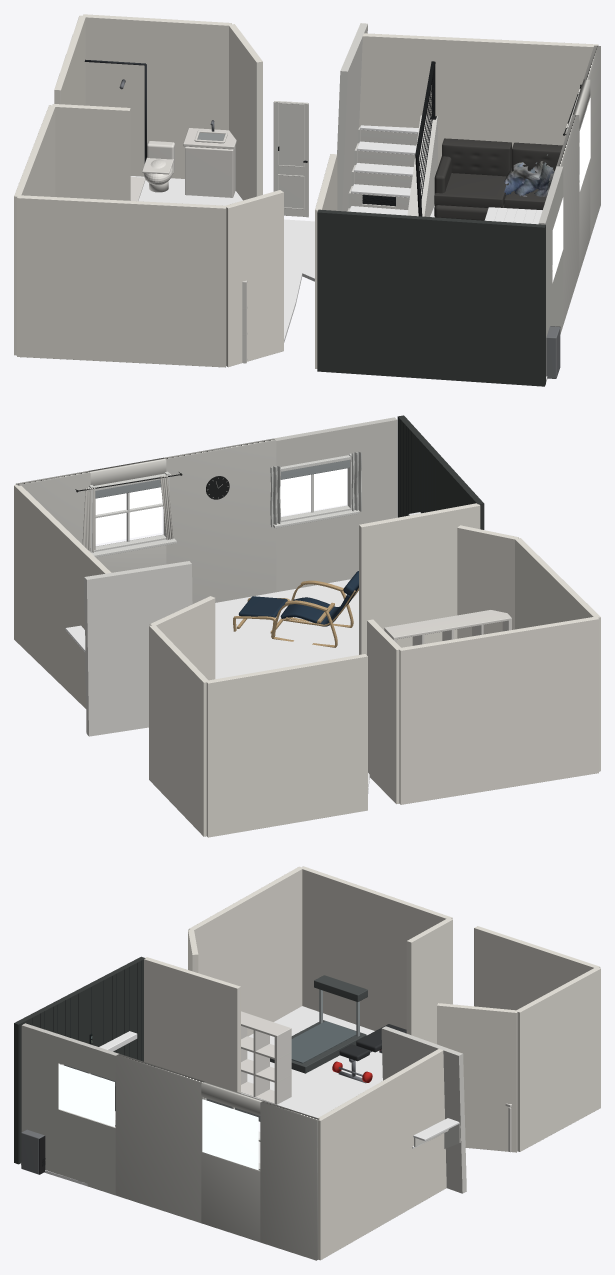
File: model-28d8dd1e8dfe.glb
3 renders of one model, top to bottom at view 1: azimuth 30°, elevation 25°; view 2: azimuth 150°, elevation 25°; view 3: azimuth 270°, elevation 25°, orthographic. The views are drawn at different scales.
Visible parts, largest first — view 1: source-wall-8-replacement, home-lower-level_observed_wall_0_panel, home-lower-level_observed_wall_6_panel, home-lower-level_observed_wall_4_panel, home-lower-level_observed_wall_10_panel, home-lower-level_observed_wall_2_panel, home-lower-level_observed_wall_5_panel, home-lower-level_independently_traced_floor, source white stair-side wall, measured plane, inferred crop , actual-second-window-wall-between-windows, home-lower-level_observed_wall_1_panel, home-lower-level__bath_vanity__cabinet (+30 smaller); view 2: home-lower-level_observed_wall_1_panel, home-lower-level_observed_wall_3_panel, actual-second-window-wall-between-windows, source white stair-side wall, measured plane, inferred crop , home-lower-level_observed_wall_9_panel, home-lower-level_observed_wall_6_panel, home-lower-level_observed_wall_4_panel, home-lower-level_independently_traced_floor, home-lower-level_observed_wall_10_panel, home-lower-level_observed_wall_2_panel, source-wall-8-replacement, actual-window-cutout-wall-below (+16 smaller); view 3: home-lower-level_observed_wall_6_panel, home-lower-level_observed_wall_1_panel, actual-second-window-wall-between-windows, home-lower-level_observed_wall_4_panel, home-lower-level_observed_wall_0_panel, home-lower-level_observed_wall_9_panel, home-lower-level_observed_wall_5_panel, actual-second-window-wall-rightof-second, source-wall-8-replacement, home-lower-level_observed_wall_3_panel, home-lower-level_independently_traced_floor, home-lower-level_observed_wall_2_panel (+15 smaller).
Part boxes in pixels (x1,y1,x2,y2): source-wall-8-replacement: (317,209,545,386); home-lower-level_observed_wall_0_panel: (17,195,226,367); home-lower-level_observed_wall_6_panel: (357,33,598,188); home-lower-level_observed_wall_4_panel: (83,14,231,178); home-lower-level_observed_wall_10_panel: (226,190,283,367); home-lower-level_observed_wall_2_panel: (52,104,130,200); home-lower-level_observed_wall_5_panel: (229,24,262,200); home-lower-level_independently_traced_floor: (130,176,547,382); source white stair-side wall, measured plane, inferred crop : (337,23,367,211); actual-second-window-wall-between-windows: (556,115,579,324); home-lower-level_observed_wall_1_panel: (14,105,55,355); home-lower-level__bath_vanity__cabinet: (185,146,235,197); home-lower-level_observed_wall_1_panel: (399,617,598,804); home-lower-level_observed_wall_3_panel: (206,654,367,837); actual-second-window-wall-between-windows: (164,438,276,603); source white stair-side wall, measured plane, inferred crop : (84,561,192,736); home-lower-level_observed_wall_9_panel: (359,503,480,654); home-lower-level_observed_wall_6_panel: (14,485,111,708); home-lower-level_observed_wall_4_panel: (149,624,207,836); home-lower-level_independently_traced_floor: (215,579,369,793); home-lower-level_observed_wall_10_panel: (457,525,518,638); home-lower-level_observed_wall_2_panel: (367,619,401,803); source-wall-8-replacement: (397,415,484,529); actual-window-cutout-wall-below: (276,505,350,592); home-lower-level_observed_wall_6_panel: (318,1049,446,1260); home-lower-level_observed_wall_1_panel: (302,866,452,1030); actual-second-window-wall-between-windows: (115,1054,204,1222); home-lower-level_observed_wall_4_panel: (515,967,600,1151); home-lower-level_observed_wall_0_panel: (188,866,303,1036); home-lower-level_observed_wall_9_panel: (144,957,240,1092); home-lower-level_observed_wall_5_panel: (437,1003,517,1152); actual-second-window-wall-rightof-second: (260,1101,319,1260); source-wall-8-replacement: (14,956,145,1164); home-lower-level_observed_wall_3_panel: (474,926,600,1010); home-lower-level_independently_traced_floor: (21,1006,382,1186); home-lower-level_observed_wall_2_panel: (406,918,452,1044).
Bounding box in the file's own units: 8.99 × 2.3 × 8.76.
